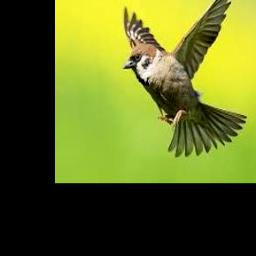Sparrow: (123, 0, 247, 157)
